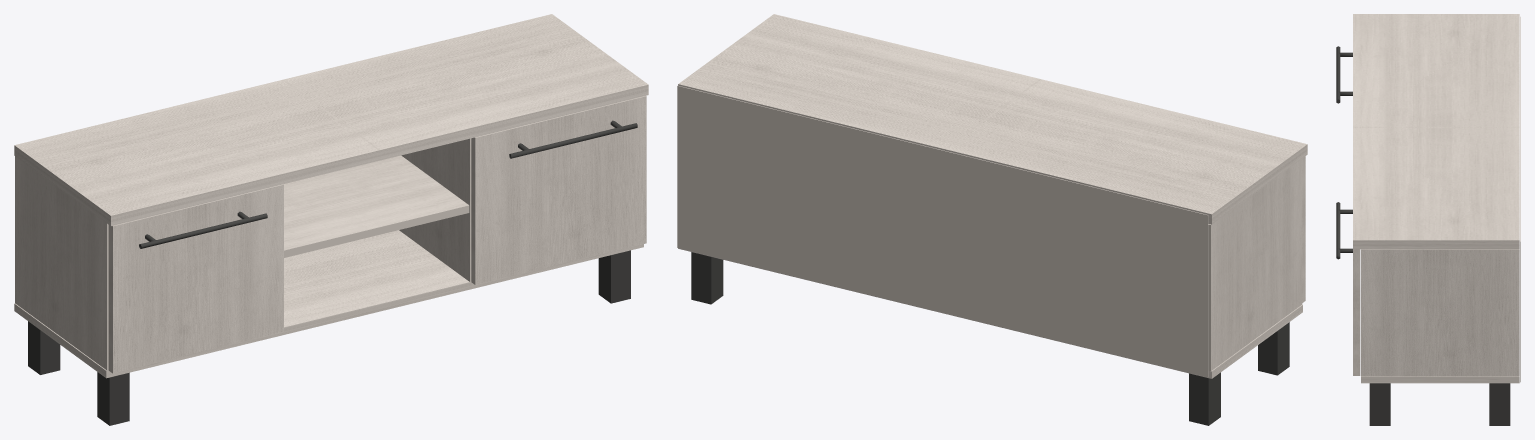
Rendered from stand-tv.obj.
The picture shows the model from 3 angles, left to right: view 1: azimuth 30°, elevation 25°; view 2: azimuth 150°, elevation 25°; view 3: azimuth 270°, elevation 25°; orthographic projection. The views are drawn at different scales.
Parts seen in each view (by area): view 1: stand-tv.002; view 2: stand-tv.002; view 3: stand-tv.002.
Part boxes in pixels (x1=…): stand-tv.002: x1=14, y1=14, x2=648, y2=425; stand-tv.002: x1=677, y1=14, x2=1307, y2=425; stand-tv.002: x1=1336, y1=14, x2=1520, y2=425.
Bounding box in the file's own units: 2.5 × 0.9747 × 0.8616.
4 materials, 4 textured.
